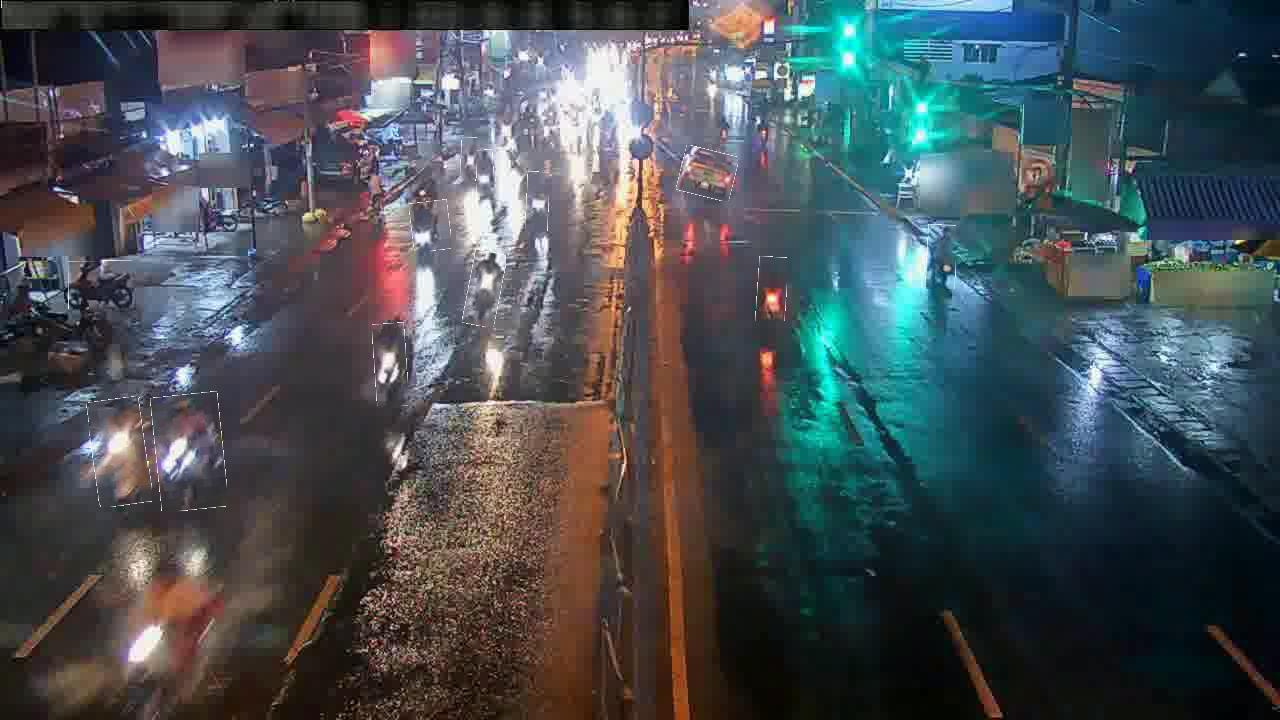car: (679, 148, 737, 200)
motorbike: (153, 393, 226, 511), (90, 398, 150, 507), (68, 261, 133, 310), (466, 251, 504, 327), (374, 323, 408, 407), (411, 200, 451, 251), (926, 225, 957, 290), (756, 257, 787, 322), (526, 172, 550, 233), (475, 150, 495, 197), (460, 137, 478, 180)
